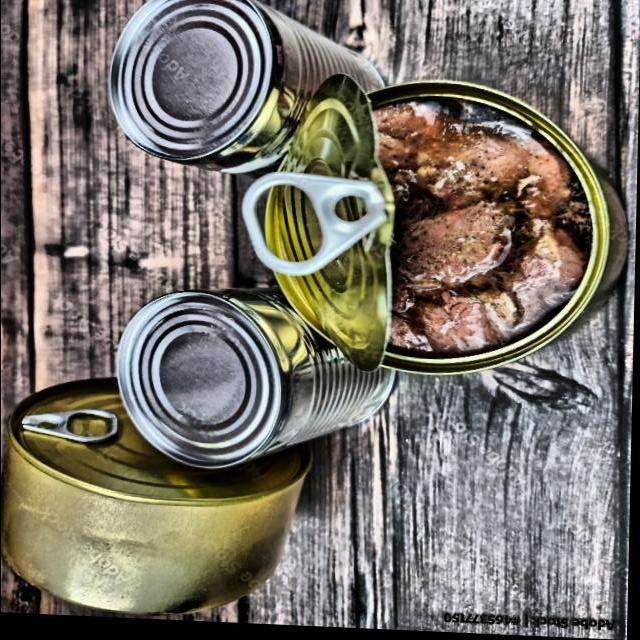litter: (232, 63, 638, 390), (0, 372, 333, 628), (108, 266, 407, 487), (96, 0, 408, 183)
